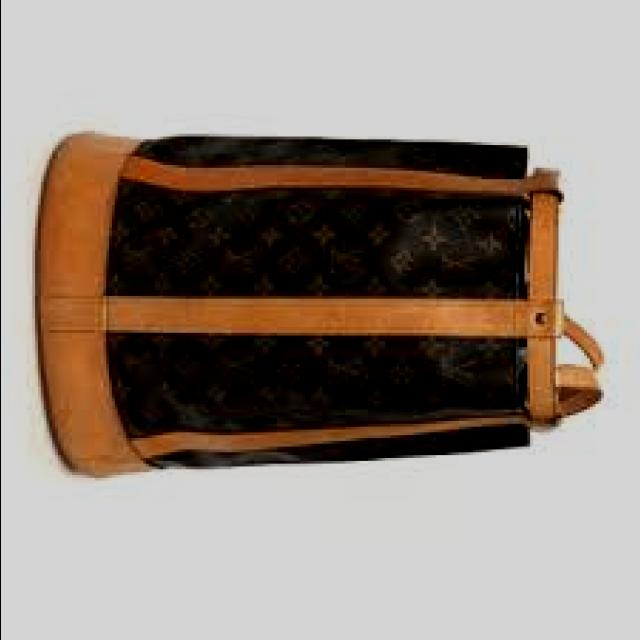backpack: (38, 132, 607, 479)
